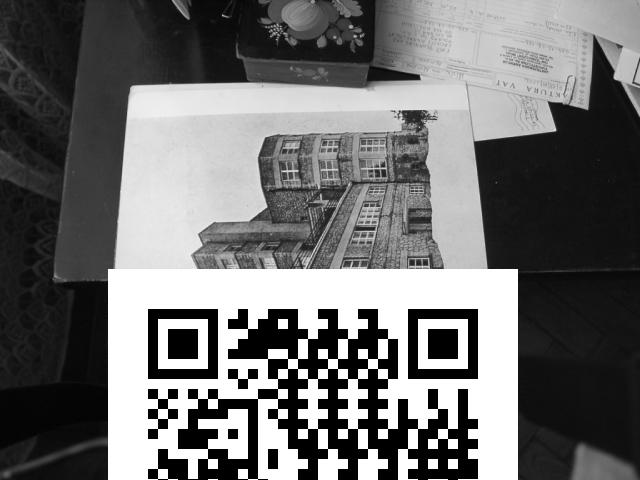qr_code: (110, 270, 517, 480)
